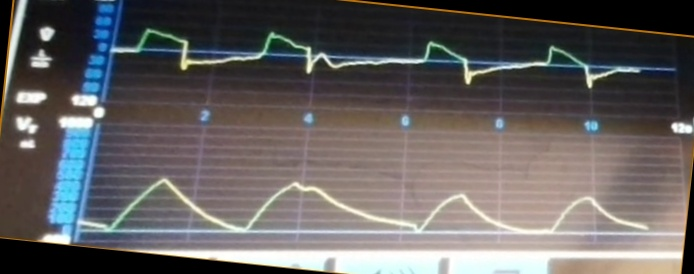Premature_cycling Flow: (115, 25, 639, 106)
Premature_cycling Volume: (85, 171, 650, 245)
